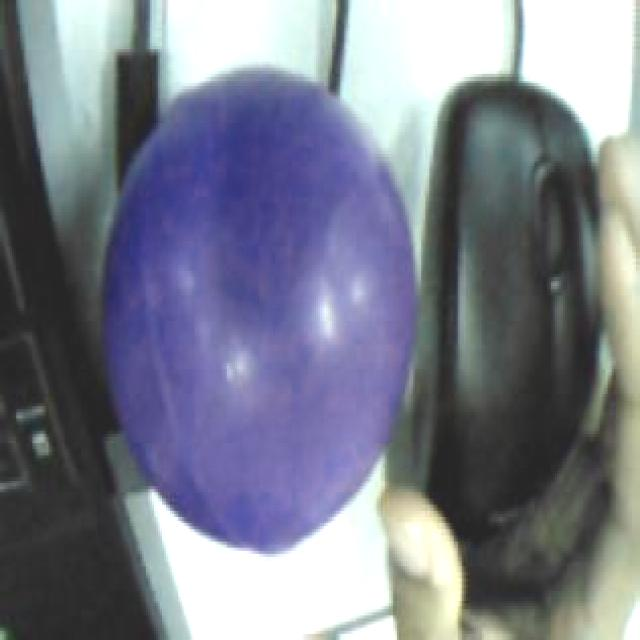BallPurple: (100, 66, 416, 555)
